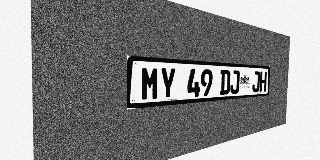4: (187, 68, 201, 97)
9: (200, 69, 213, 96)
D: (220, 70, 230, 95)
H: (259, 71, 267, 92)
J: (230, 70, 240, 94), (252, 71, 260, 92)
M: (141, 66, 159, 101)
Y: (159, 67, 176, 100)
